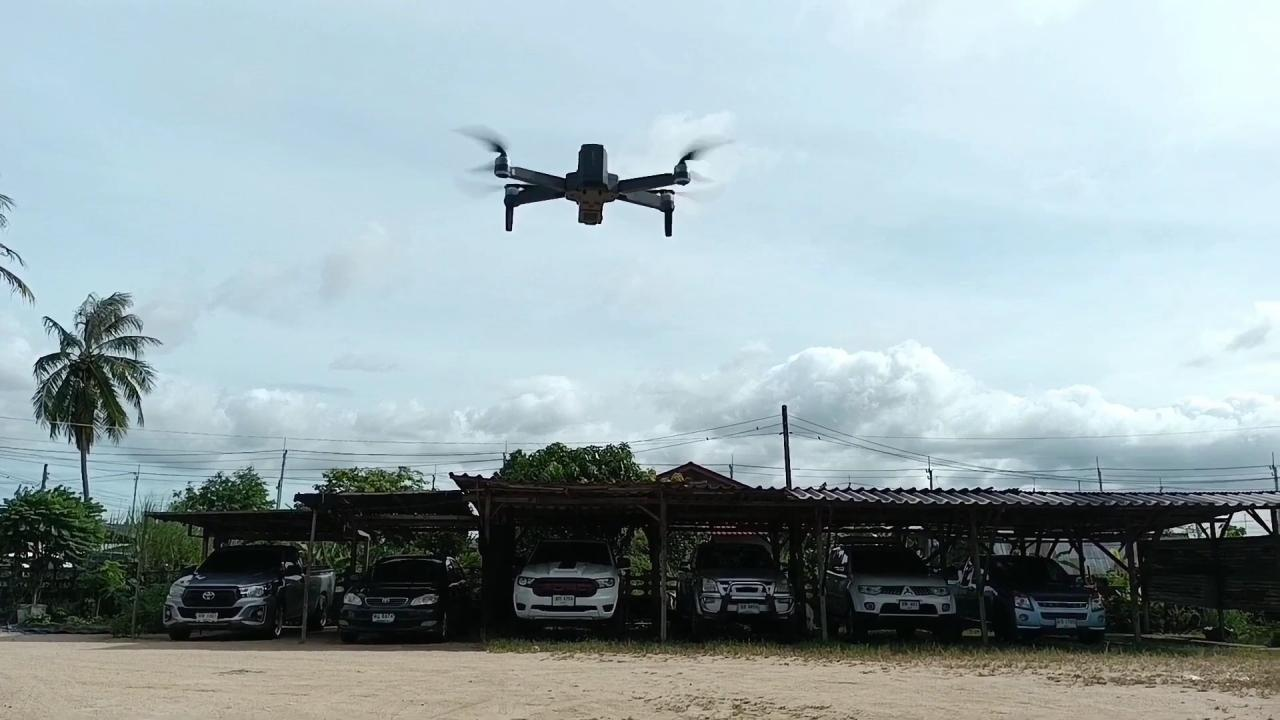Drone: (434, 103, 747, 253)
